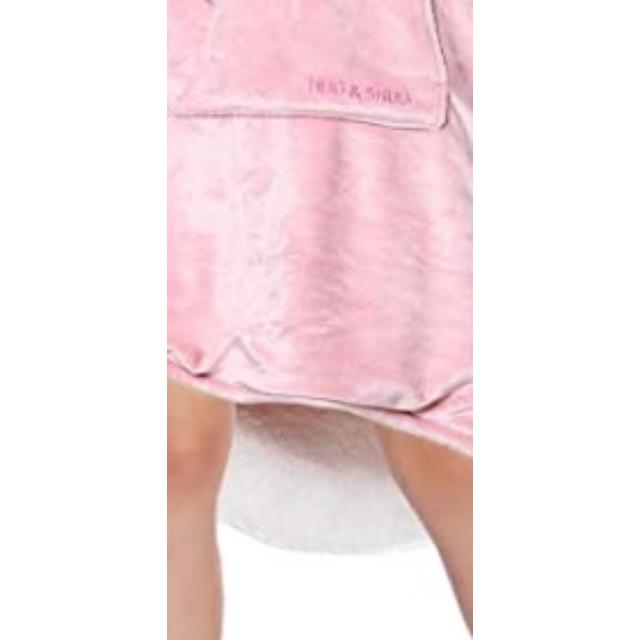polyester: (167, 1, 473, 380)
